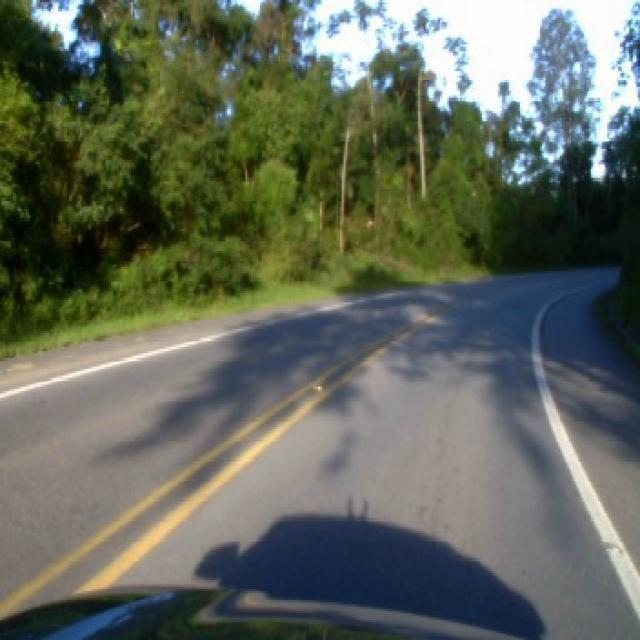Poth-hole: (311, 382, 324, 391)
